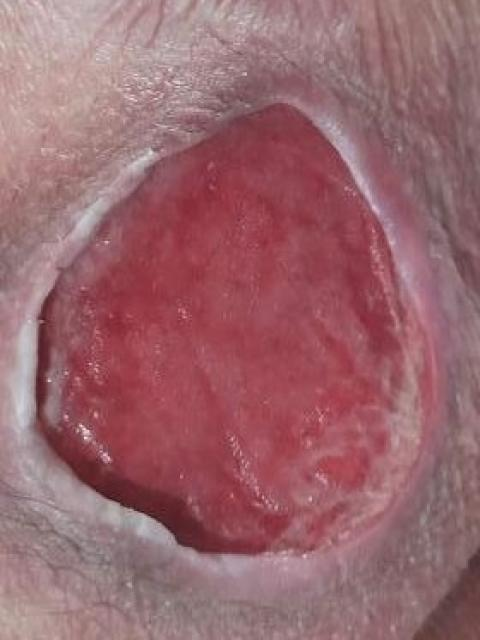wound: (26, 102, 434, 563)
